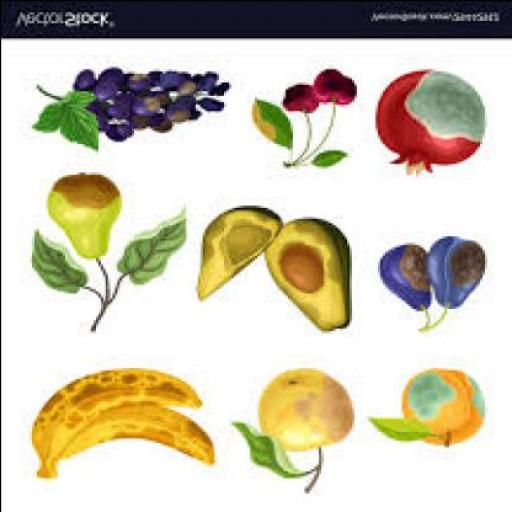biodegradable: (28, 368, 200, 480), (45, 407, 211, 479), (372, 70, 481, 179), (69, 68, 225, 142), (260, 220, 349, 334), (194, 209, 280, 301), (256, 370, 351, 450), (398, 370, 482, 450), (45, 174, 116, 260), (114, 216, 185, 286), (424, 238, 484, 310), (31, 86, 95, 152), (230, 422, 298, 481), (378, 244, 426, 314), (29, 233, 83, 294), (275, 242, 319, 292), (249, 99, 289, 150), (365, 417, 429, 442), (308, 71, 344, 105), (279, 85, 315, 114), (332, 79, 354, 106), (310, 150, 346, 166)
